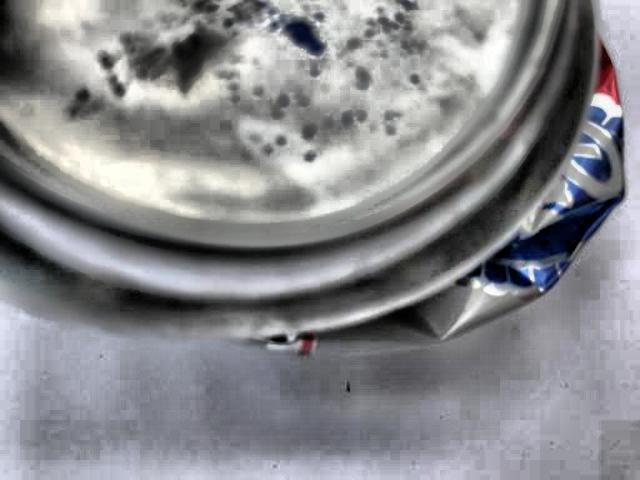Bottles: (0, 0, 633, 383)
